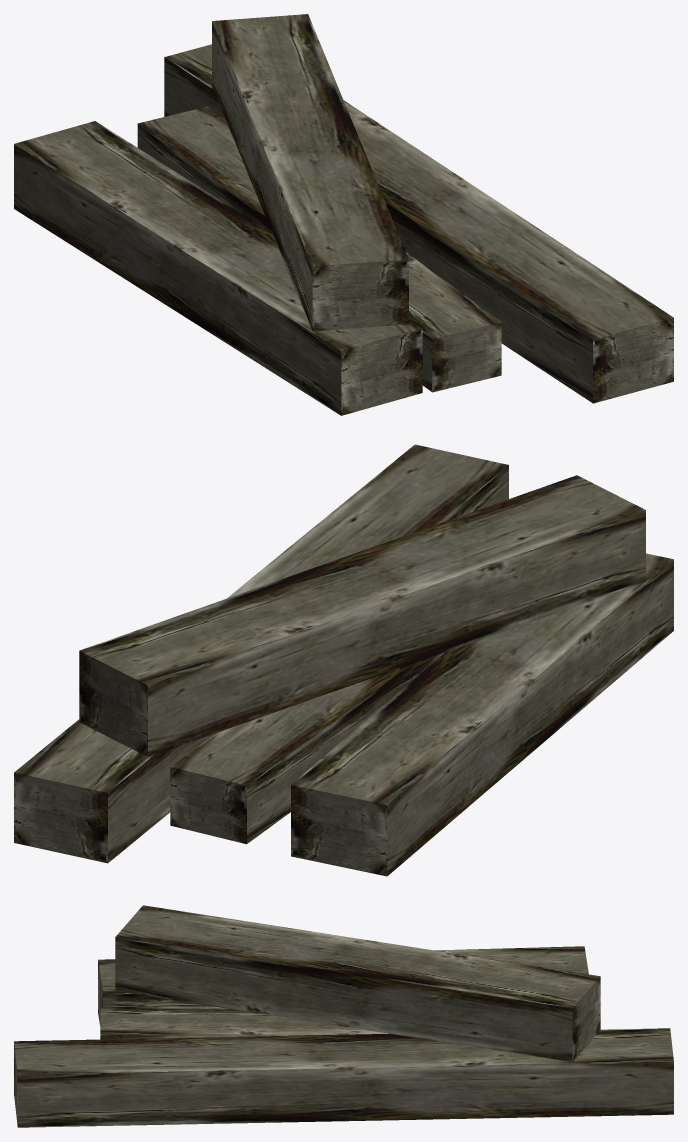
The model's file is pir_m_prp_mng_supportBeam_pile.fbx.
3 renders of one model, top to bottom at view 1: azimuth 30°, elevation 25°; view 2: azimuth 150°, elevation 25°; view 3: azimuth 270°, elevation 25°, orthographic. The views are drawn at different scales.
Parts seen in each view (by area): view 1: minesupport_3, minesupport_2, minesupport_4, minesupport_1; view 2: minesupport_4, minesupport_3, minesupport_2, minesupport_1; view 3: minesupport_2, minesupport_4, minesupport_1, minesupport_3.
Part boxes in pixels (box(x1,y1,x2,y2)): minesupport_3: box(14, 121, 422, 415); minesupport_2: box(164, 44, 673, 403); minesupport_4: box(212, 14, 408, 331); minesupport_1: box(137, 106, 501, 392); minesupport_4: box(79, 475, 645, 756); minesupport_3: box(291, 553, 673, 876); minesupport_2: box(14, 444, 508, 863); minesupport_1: box(170, 652, 444, 844); minesupport_2: box(14, 1028, 673, 1127); minesupport_4: box(115, 905, 600, 1061); minesupport_1: box(100, 1006, 388, 1039); minesupport_3: box(98, 946, 588, 1025).
Size of the model in its own units: 2043 by 800 by 4446.
Materials: 1 (1 with a texture image).
